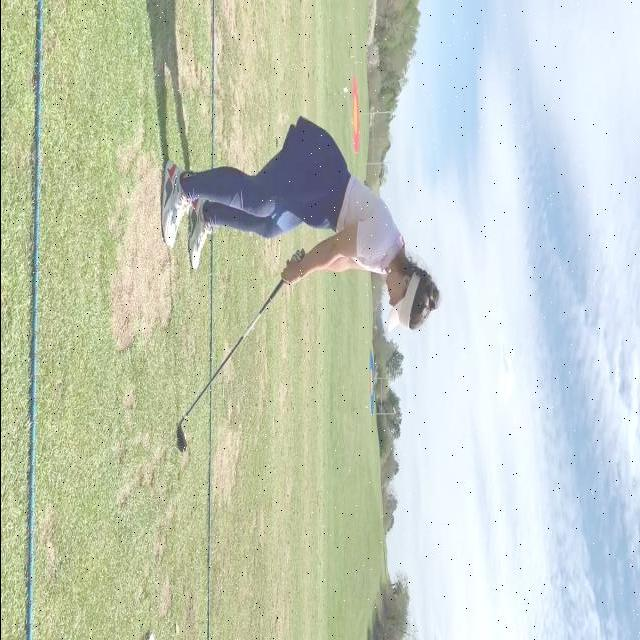golf ball: (183, 432, 185, 440)
golf club-handle: (175, 249, 304, 453)
golf club-head: (176, 425, 186, 453)
